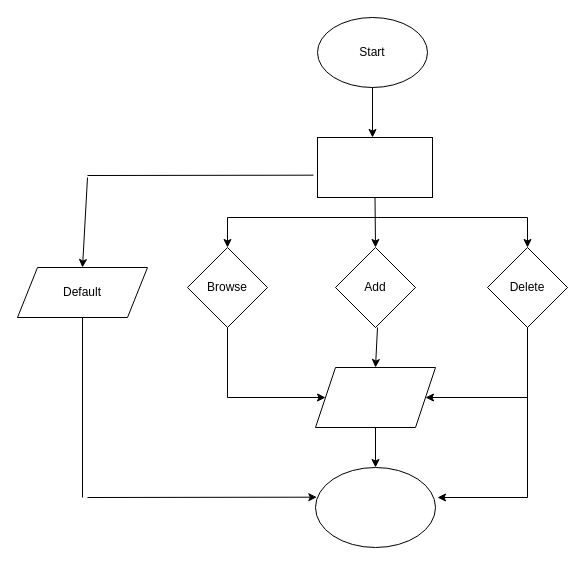
Some shapes in this 585 by 565 pixel diagram are drawn without their labels. The shapes that lost their labels are listed below. From the top down, each one's centre as x and y in pixels, then its label:
[374,167]: Load
[375,397]: Save
[375,507]: Quit/Stop
